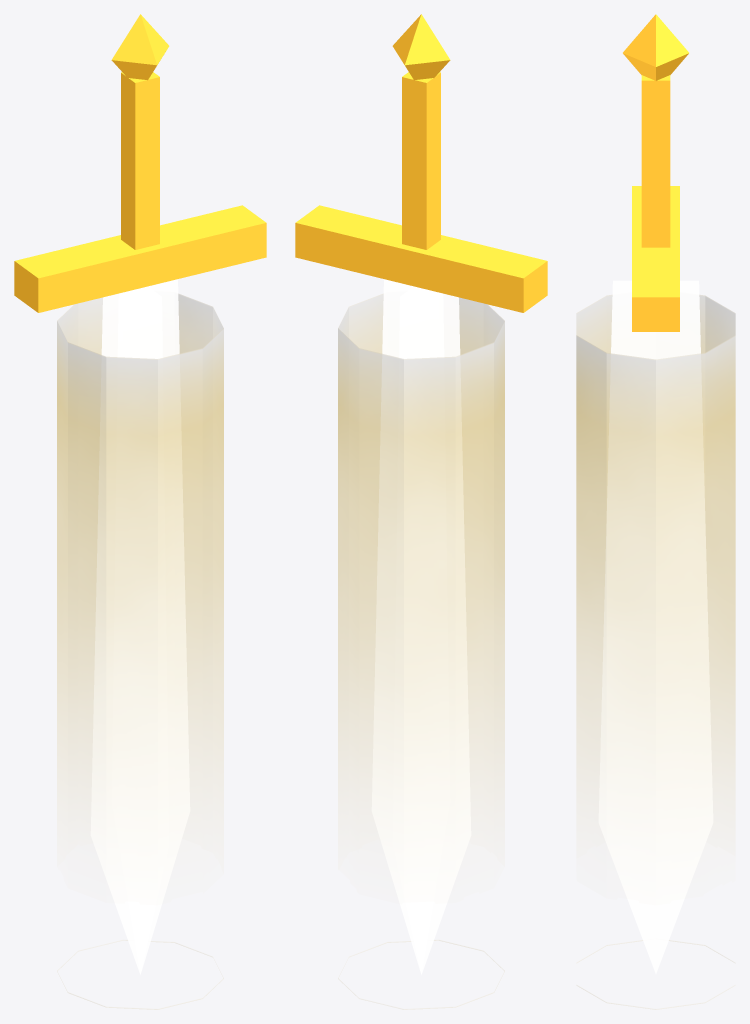
File: fx_lsword.glb
The picture shows the model from 3 angles, left to right: view 1: azimuth 30°, elevation 25°; view 2: azimuth 150°, elevation 25°; view 3: azimuth 270°, elevation 25°; orthographic projection.
Parts seen in each view (by area): view 1: fx_sword_glow, fx_sword_blade, fx_sword_hilt; view 2: fx_sword_glow, fx_sword_blade, fx_sword_hilt; view 3: fx_sword_glow, fx_sword_blade, fx_sword_hilt.
Boxes of the visible parts, x1,y1,x2,y2 form: fx_sword_glow: (57, 293, 223, 1009); fx_sword_blade: (90, 279, 190, 974); fx_sword_hilt: (14, 14, 266, 312); fx_sword_glow: (338, 293, 504, 1009); fx_sword_blade: (371, 279, 471, 974); fx_sword_hilt: (295, 14, 547, 312); fx_sword_glow: (576, 295, 735, 1009); fx_sword_blade: (598, 280, 713, 973); fx_sword_hilt: (623, 14, 688, 331).
Size of the model in its own units: 1.1 by 4.43 by 0.6657.
3 materials, 1 textured.
